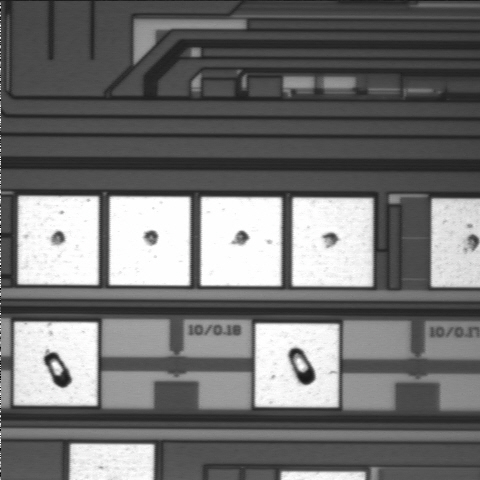pad: (109, 196, 190, 286), (18, 196, 99, 285), (201, 197, 282, 286), (292, 198, 373, 287), (14, 322, 98, 406), (255, 323, 339, 407)
